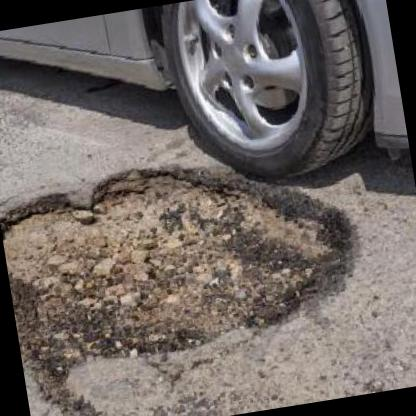pothole: (0, 132, 371, 379)
